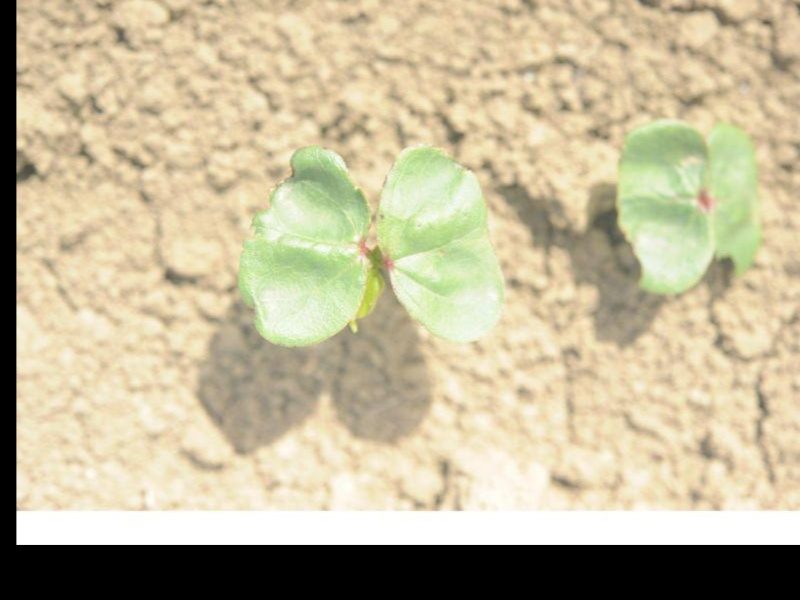cotton: (236, 141, 503, 344), (615, 117, 761, 295)
